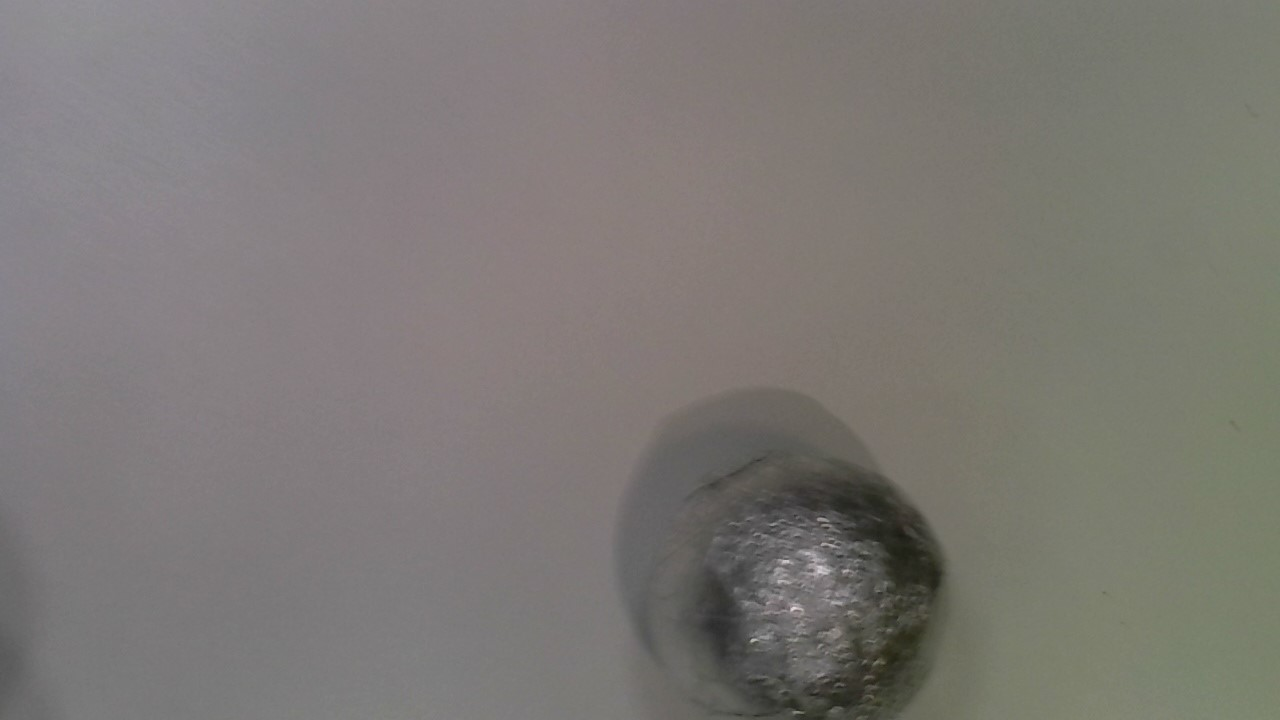silver_ball: (636, 442, 956, 715)
